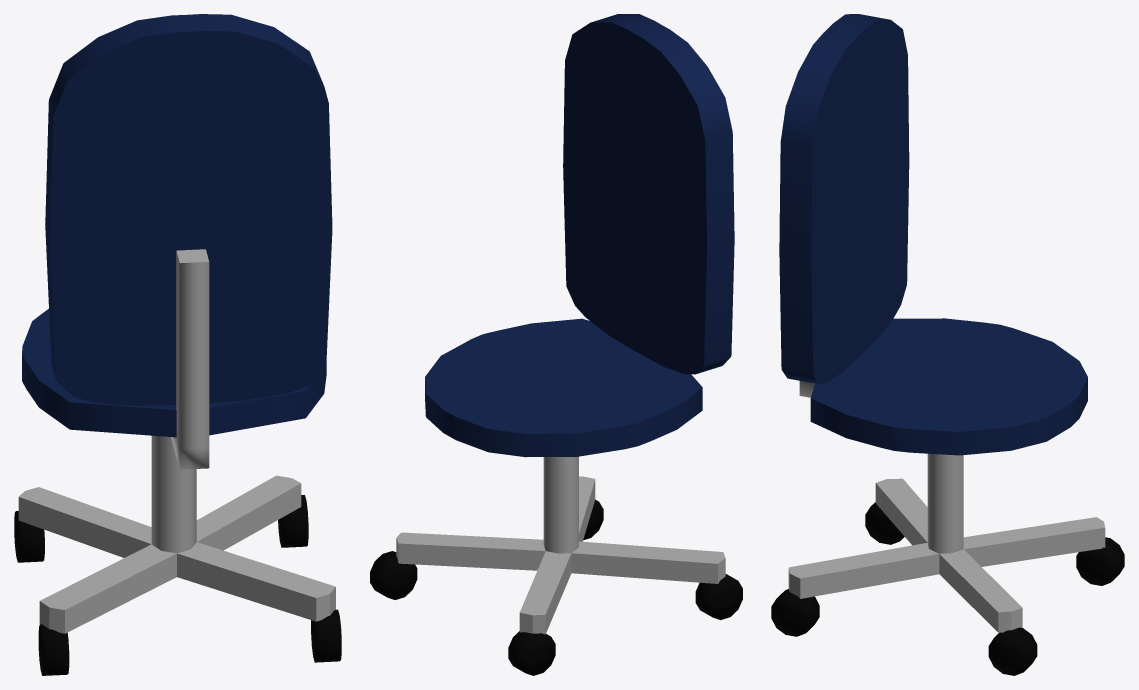
Rendered from officeChair.glb.
3 views of the same model, side by side, from view 1: azimuth 30°, elevation 25°; view 2: azimuth 150°, elevation 25°; view 3: azimuth 270°, elevation 25° (orthographic). The views are drawn at different scales.
Visible parts, largest first — view 1: polySurface3020_speedy_chair_surface_0, polySurface3020_chair_metal_surface_0, polySurface3020_chair_wheels_surface_0; view 2: polySurface3020_speedy_chair_surface_0, polySurface3020_chair_metal_surface_0, polySurface3020_chair_wheels_surface_0; view 3: polySurface3020_speedy_chair_surface_0, polySurface3020_chair_metal_surface_0, polySurface3020_chair_wheels_surface_0.
Boxes of the visible parts, <box> form: polySurface3020_speedy_chair_surface_0: <box>22,14,332,437</box>; polySurface3020_chair_metal_surface_0: <box>18,249,335,633</box>; polySurface3020_chair_wheels_surface_0: <box>14,495,341,675</box>; polySurface3020_speedy_chair_surface_0: <box>425,14,734,457</box>; polySurface3020_chair_metal_surface_0: <box>396,456,725,634</box>; polySurface3020_chair_wheels_surface_0: <box>370,499,742,675</box>; polySurface3020_speedy_chair_surface_0: <box>779,14,1087,455</box>; polySurface3020_chair_metal_surface_0: <box>788,381,1105,632</box>; polySurface3020_chair_wheels_surface_0: <box>771,502,1124,675</box>.
Bounding box in the file's own units: 8.33 × 14.67 × 8.48.
